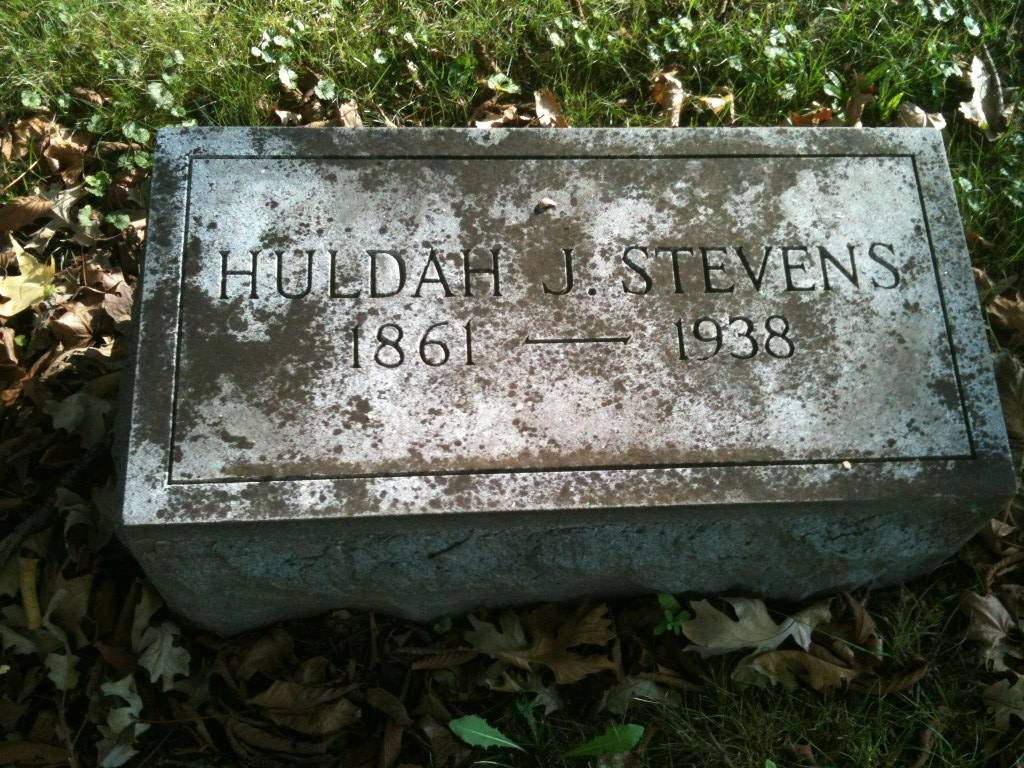flat: (121, 121, 1016, 635)
